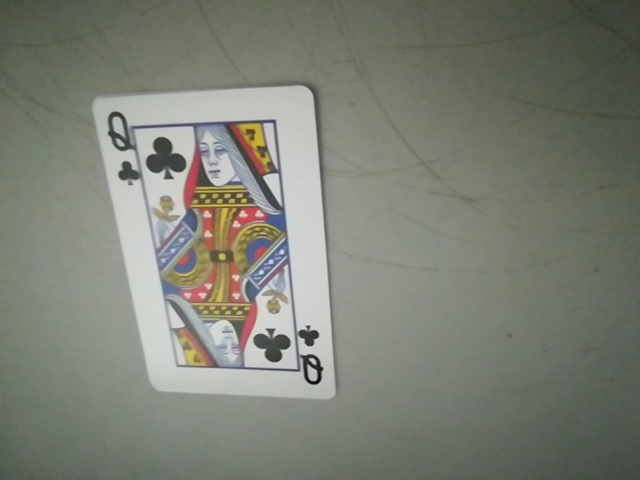mh q: (99, 112, 148, 188), (284, 326, 328, 391)
